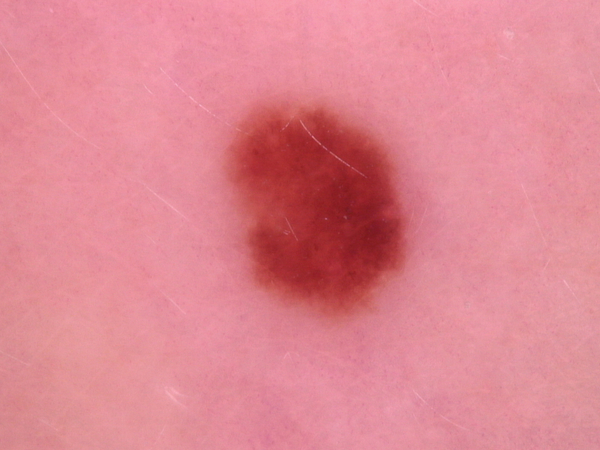Detected Lesion: (218, 96, 410, 322)
